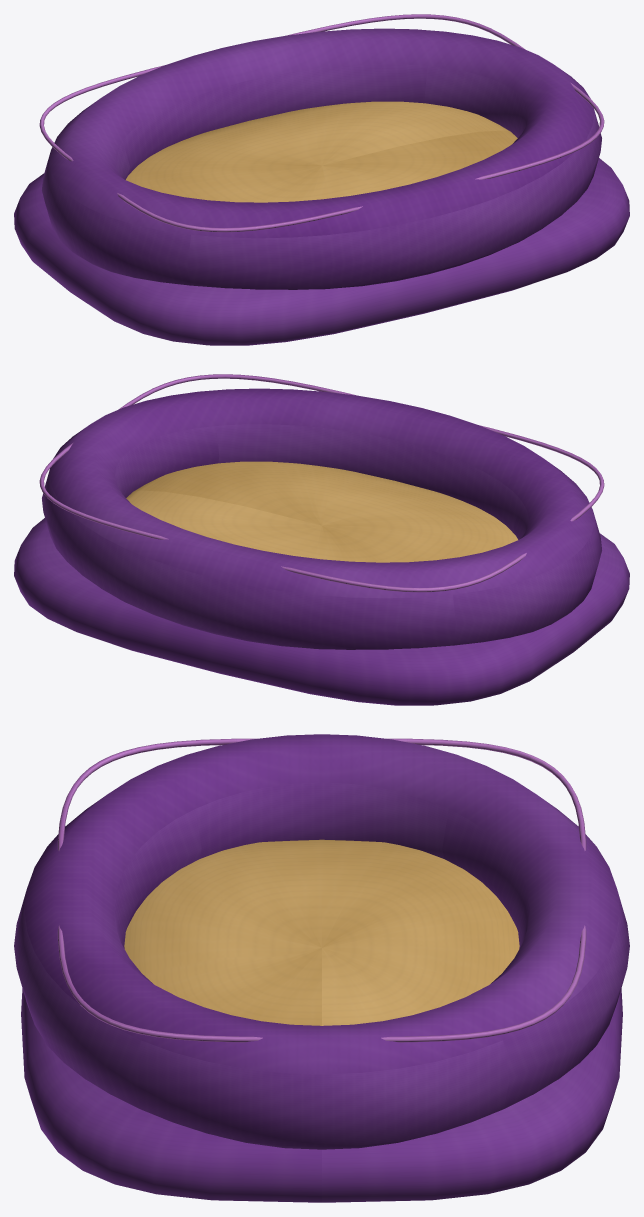
Rendered from V5_DogBed.fbx.
The picture shows the model from 3 angles, top to bottom: view 1: azimuth 30°, elevation 25°; view 2: azimuth 150°, elevation 25°; view 3: azimuth 270°, elevation 25°; orthographic projection. The views are drawn at different scales.
Parts seen in each view (by area): view 1: V5_DogBed; view 2: V5_DogBed; view 3: V5_DogBed.
Part boxes in pixels (left/top/right/bottom): V5_DogBed: left=14, top=14, right=629, bottom=345; V5_DogBed: left=14, top=374, right=629, bottom=705; V5_DogBed: left=14, top=734, right=629, bottom=1202.
Size of the model in its own units: 0.8 by 0.1947 by 0.614.
Materials: 1 (1 with a texture image).
